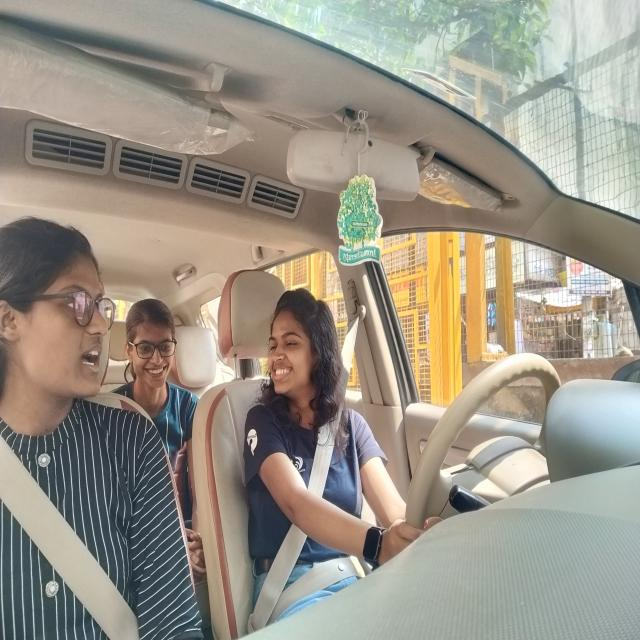LeftRight: (271, 281, 338, 418)
person: (2, 217, 116, 425), (125, 298, 181, 399)
talking: (81, 338, 106, 377), (272, 363, 296, 383), (147, 364, 169, 378)
